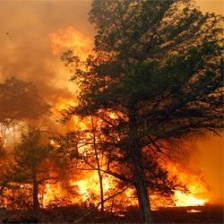fire: (23, 26, 211, 207)
